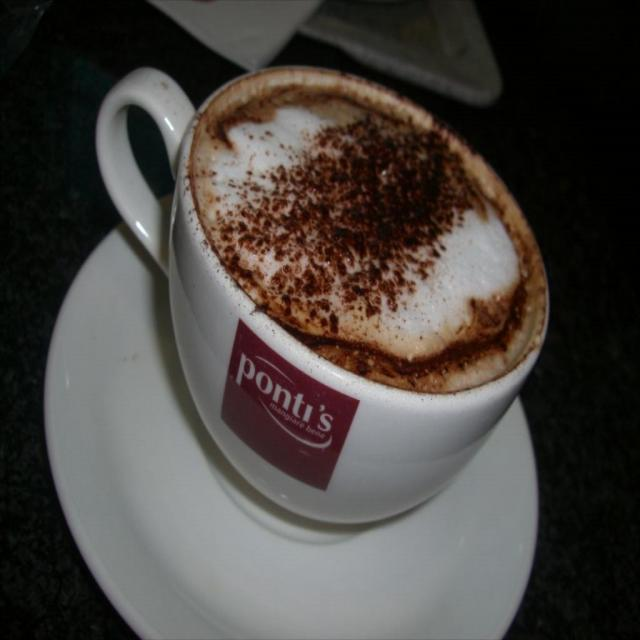Coffee: (145, 52, 533, 476)
